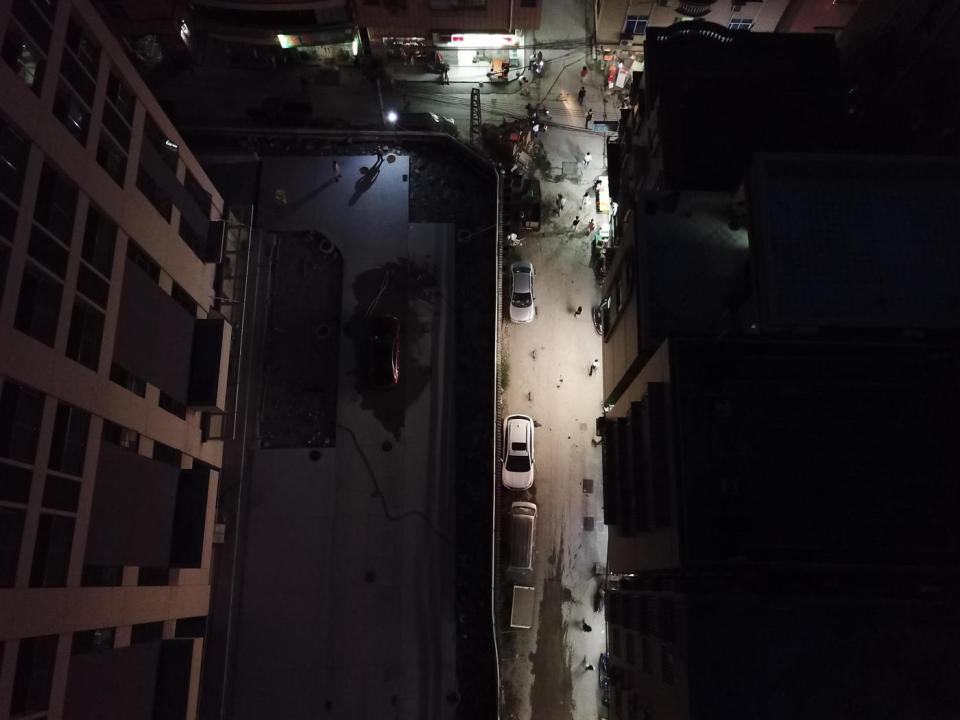car: (363, 314, 402, 391), (500, 413, 535, 492), (507, 261, 536, 323)
van: (505, 501, 538, 574), (394, 112, 458, 142)
